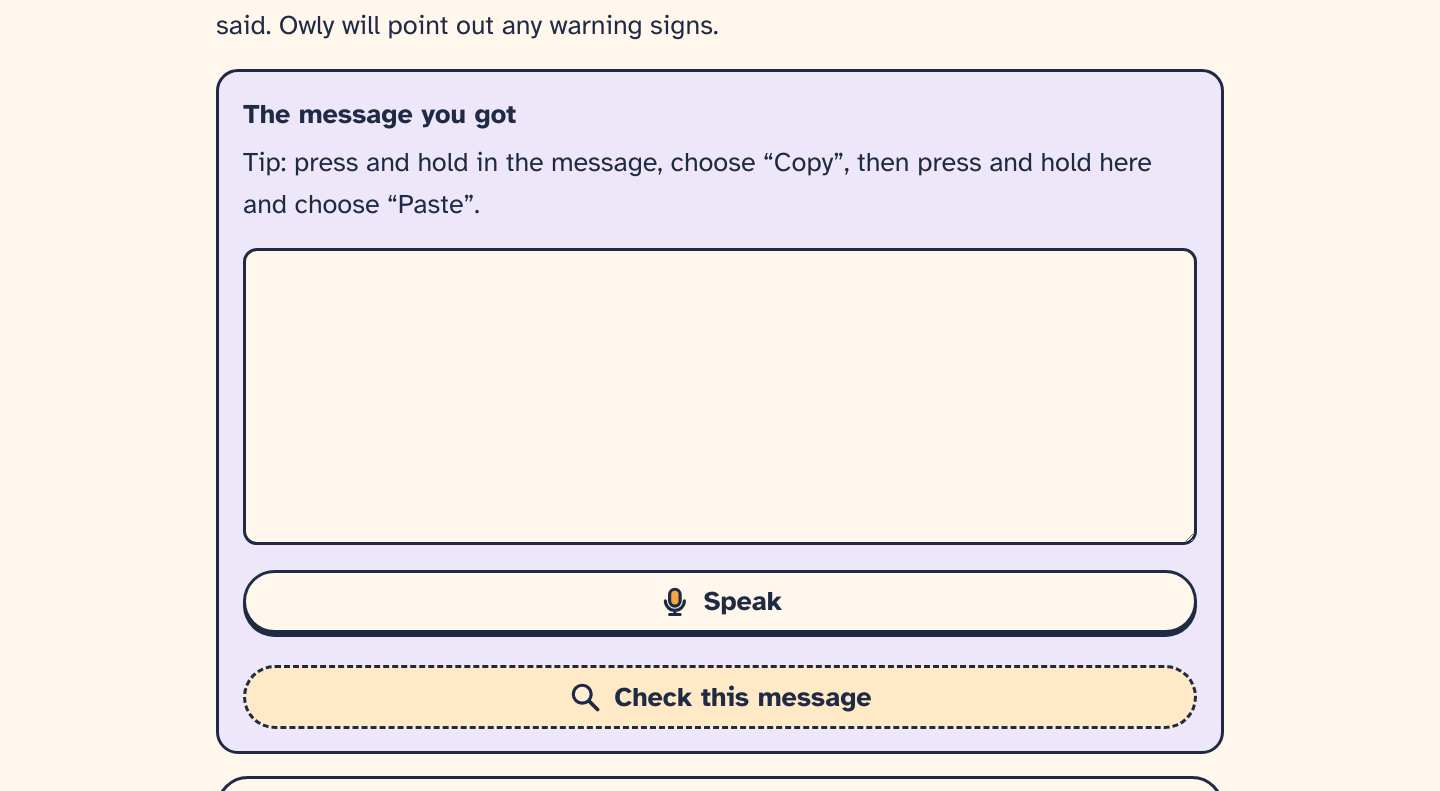
Message checker marks a fallback result as limited mode
(page scrolled)
Type "Send gift cards now" into the text box labelled "The message you got" at (720, 396), box [243, 248, 1197, 545]
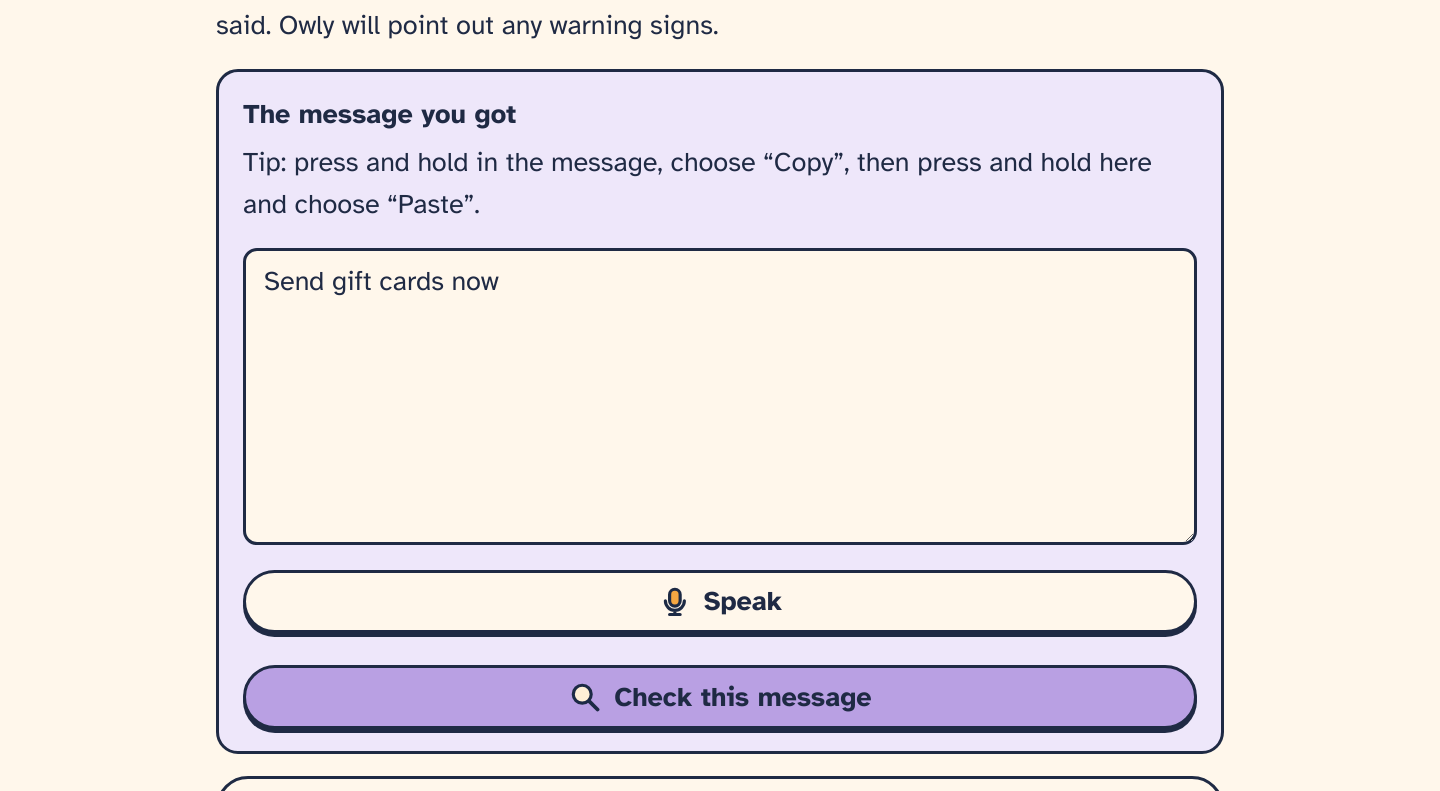
Click the button "Check this message" at (720, 697), box [243, 665, 1197, 729]
(page scrolled)
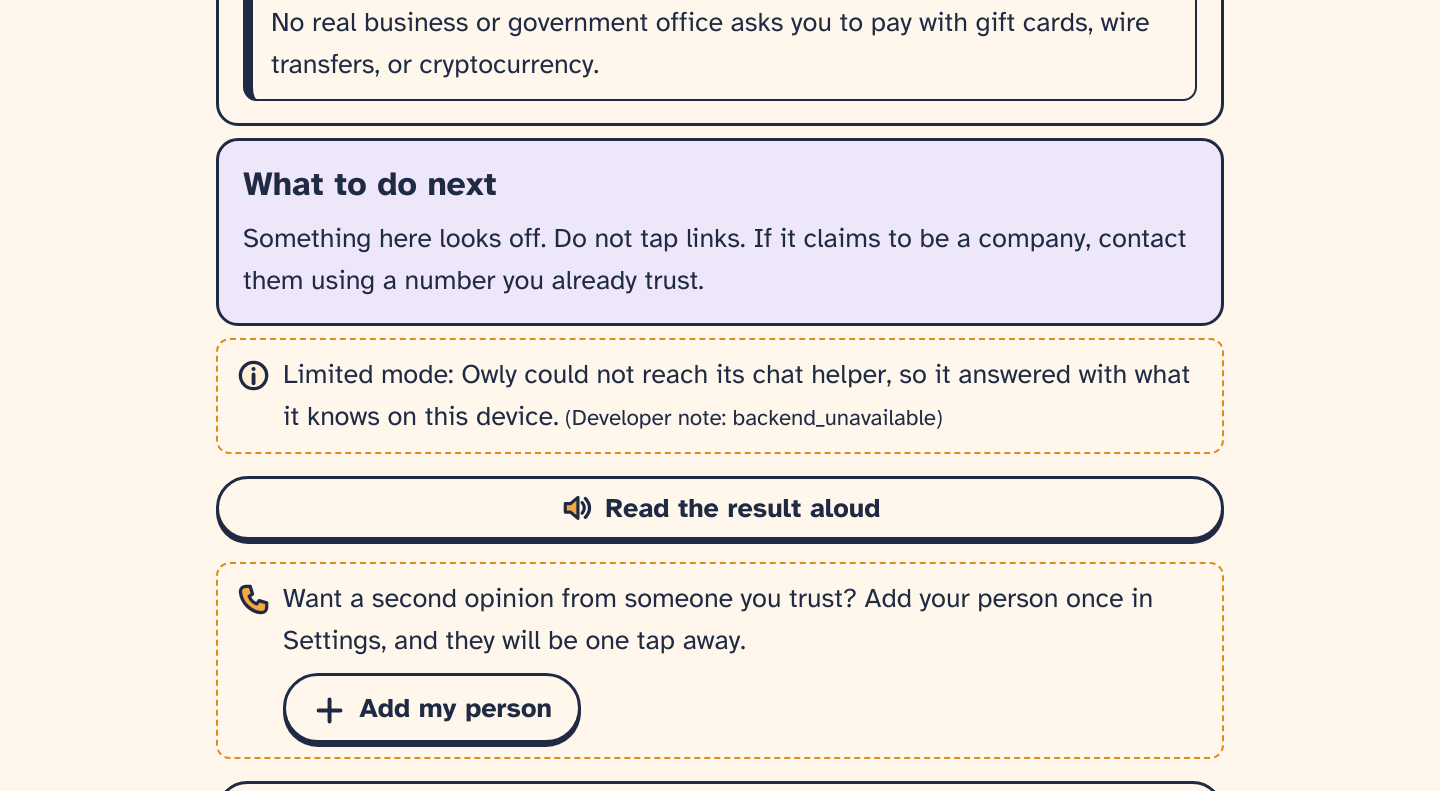
Now the text "Limited mode" is shown, box [283, 357, 1190, 433]
